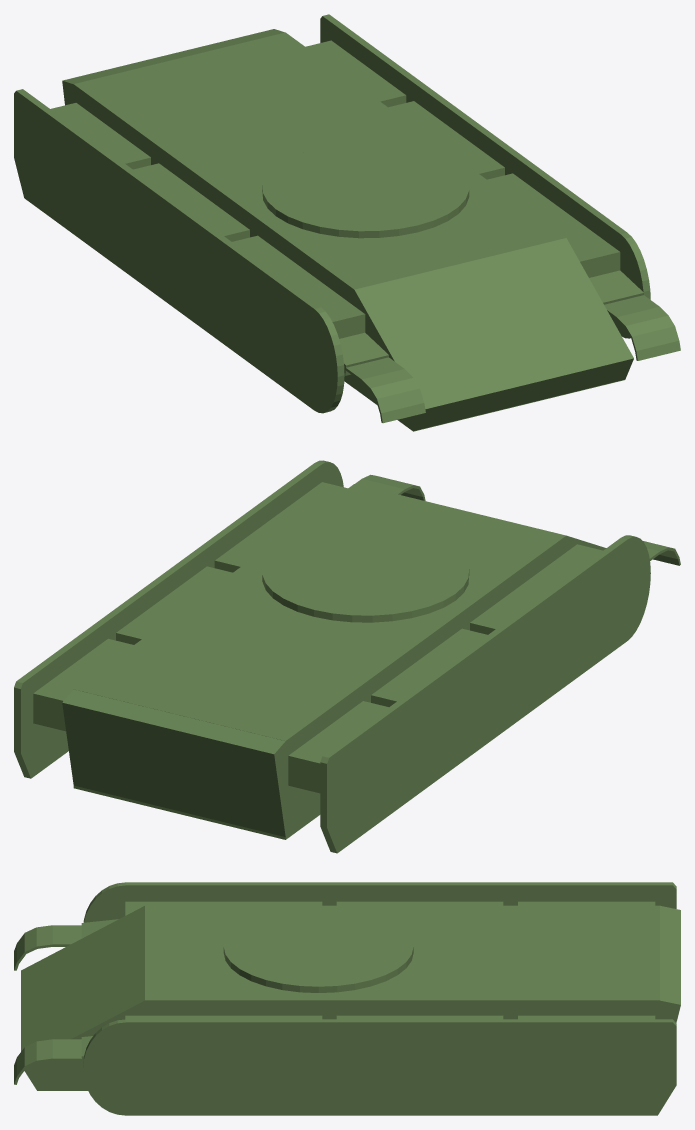
The model's file is Hull.fbx.
The picture shows the model from 3 angles, top to bottom: view 1: azimuth 30°, elevation 25°; view 2: azimuth 150°, elevation 25°; view 3: azimuth 270°, elevation 25°; orthographic projection. The views are drawn at different scales.
Visible parts, largest first — view 1: Hull; view 2: Hull; view 3: Hull.
Part boxes in pixels (box(x1,y1,x2,y2)): Hull: box(14, 14, 680, 431); Hull: box(14, 460, 680, 853); Hull: box(14, 882, 680, 1115).
Bounding box in the file's own units: 981 × 323 × 1973.
